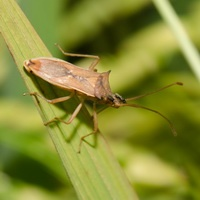insect: (24, 44, 182, 152)
